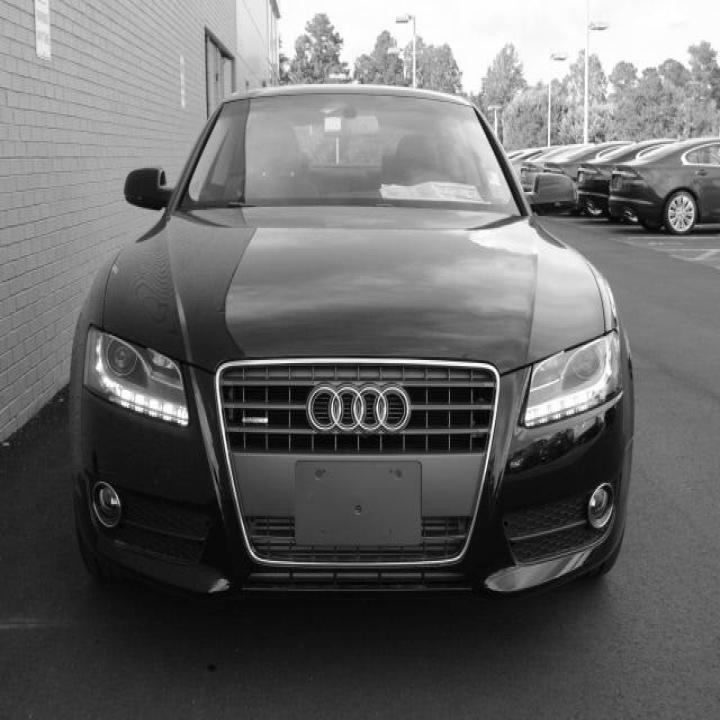car: (68, 81, 636, 601), (608, 136, 720, 235), (578, 139, 684, 226)
